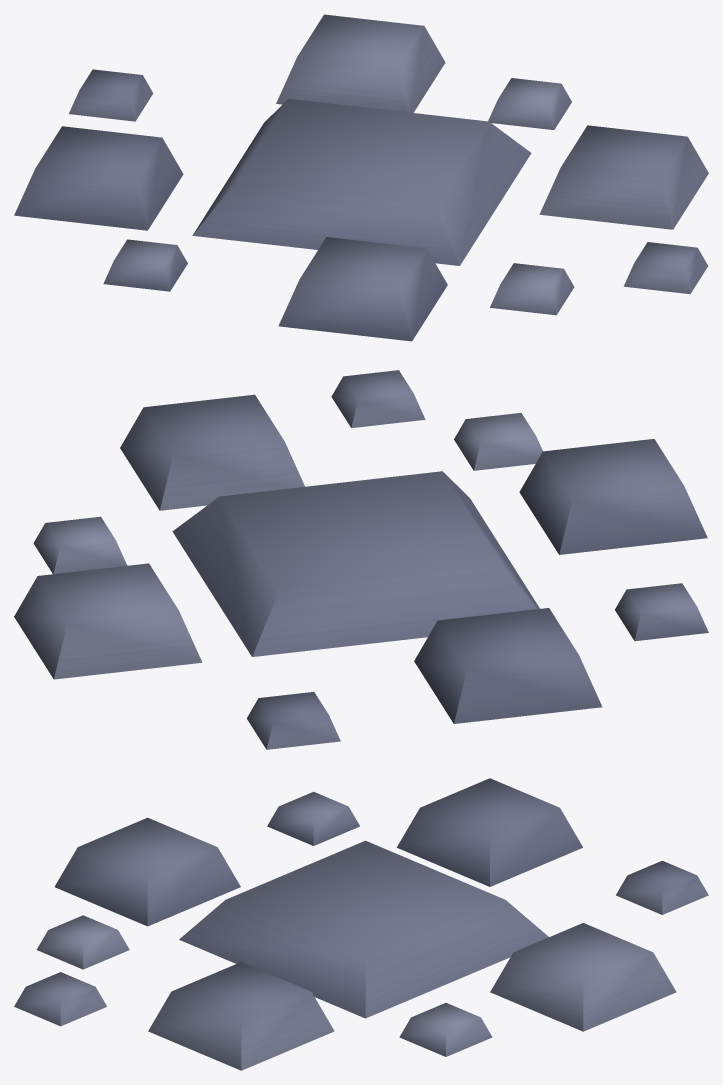
File: pedra baixa cinza.glb
3 views of the same model, one above another, from view 1: azimuth 30°, elevation 25°; view 2: azimuth 150°, elevation 25°; view 3: azimuth 270°, elevation 25° (orthographic). The views are drawn at different scales.
Parts seen in each view (by area): view 1: stones; view 2: stones; view 3: stones.
Boxes of the visible parts, x1,y1,x2,y2 form: stones: (14,14,708,341); stones: (14,370,708,749); stones: (14,778,708,1070).
Bounding box in the file's own units: 0.7102 × 0.05 × 0.7897.
1 material, 1 textured.
